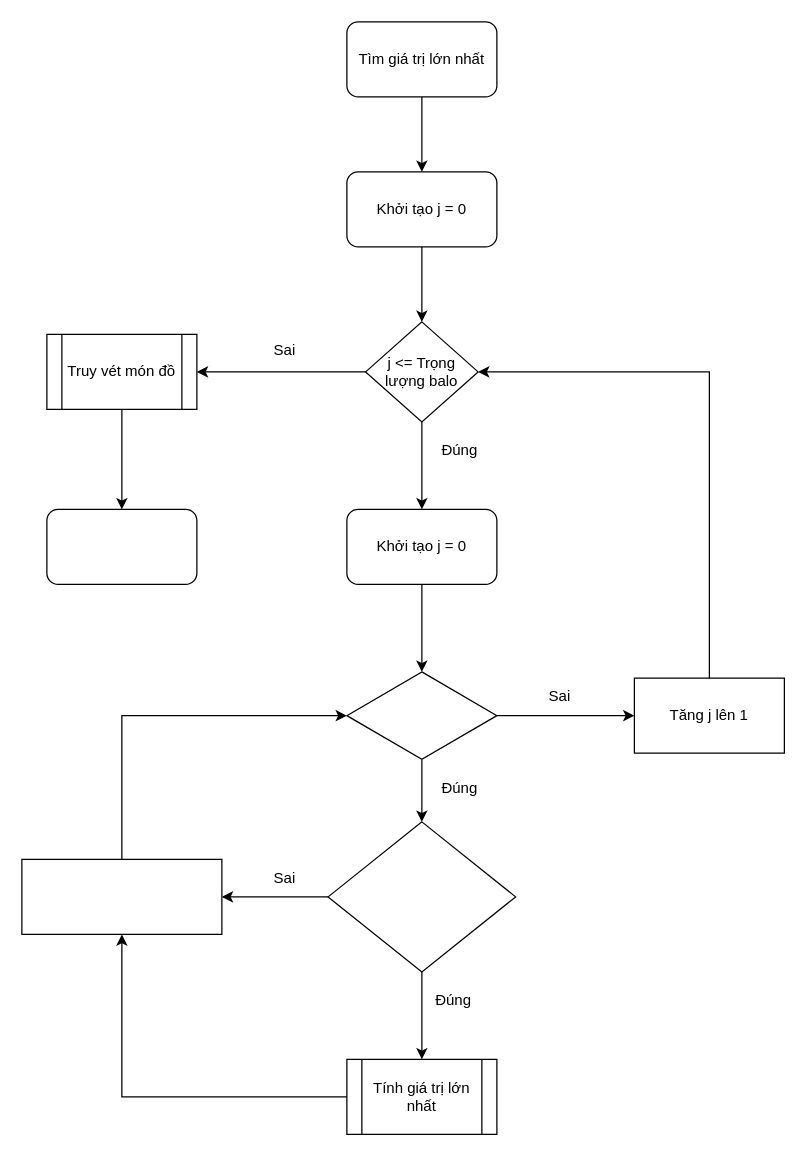
Some shapes in this 806 by 1156 pixel diagram are drawn without their labels. The centre of each missing label's shape, as x and y in pixels:
"i <= Số món đồ" goes at point (421, 715).
"Trả về giá trị lớn nhất" goes at point (121, 546).
"Trọng lượng món đồ i < trọng lượng balo thứ j" goes at point (421, 896).
"Tăng i lên 1 Lưu chỉ số món đồ đã chọn cho trọng lượng j" goes at point (121, 896).
